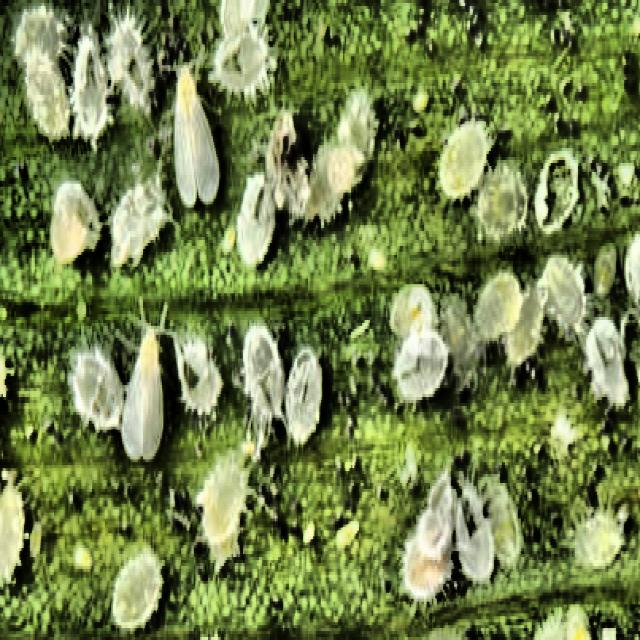egg: (335, 521, 357, 545), (73, 545, 91, 569), (29, 521, 40, 557), (221, 225, 235, 252), (413, 89, 427, 110), (368, 249, 384, 267), (602, 628, 615, 637)
nymph: (402, 477, 453, 599), (210, 0, 275, 95), (197, 453, 246, 569), (111, 169, 170, 264), (105, 6, 152, 113), (71, 24, 111, 148), (243, 323, 283, 447), (265, 113, 308, 216), (70, 347, 122, 430), (392, 326, 448, 400), (111, 548, 162, 628), (475, 163, 527, 240), (51, 181, 100, 261), (173, 338, 221, 418), (584, 317, 627, 406), (24, 50, 68, 136), (440, 121, 488, 196), (503, 287, 543, 376), (237, 172, 275, 264), (284, 347, 321, 441), (535, 151, 578, 231), (473, 270, 521, 341), (538, 255, 584, 326), (310, 142, 360, 204), (13, 3, 64, 62), (572, 510, 624, 566), (456, 504, 494, 578), (0, 471, 24, 584), (337, 89, 375, 157), (391, 284, 437, 338), (534, 604, 591, 637), (624, 234, 638, 305)
whitefly: (175, 68, 219, 204), (121, 329, 164, 459)
